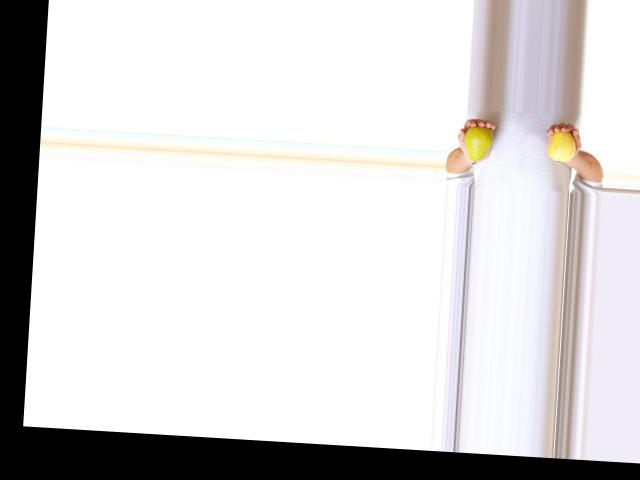apple: (545, 127, 579, 163)
